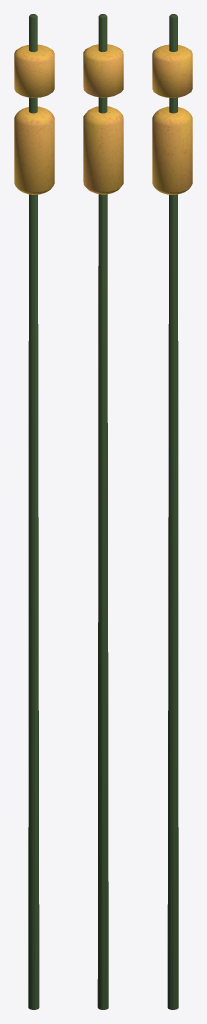
The model's file is pond_sedge01.glb.
3 views of the same model, side by side, from view 1: azimuth 90°, elevation 25°; view 2: azimuth 150°, elevation 25°; view 3: azimuth 270°, elevation 25° (orthographic).
Parts seen in each view (by area): view 1: sedge_01_Plants_0; view 2: sedge_01_Plants_0; view 3: sedge_01_Plants_0.
Boxes of the visible parts, left/top/right/bottom form: sedge_01_Plants_0: left=14, top=14, right=54, bottom=1009; sedge_01_Plants_0: left=83, top=14, right=123, bottom=1009; sedge_01_Plants_0: left=152, top=14, right=192, bottom=1009.
Bounding box in the file's own units: 0.0301 × 0.8127 × 0.0301.
Materials: 1 (1 with a texture image).
